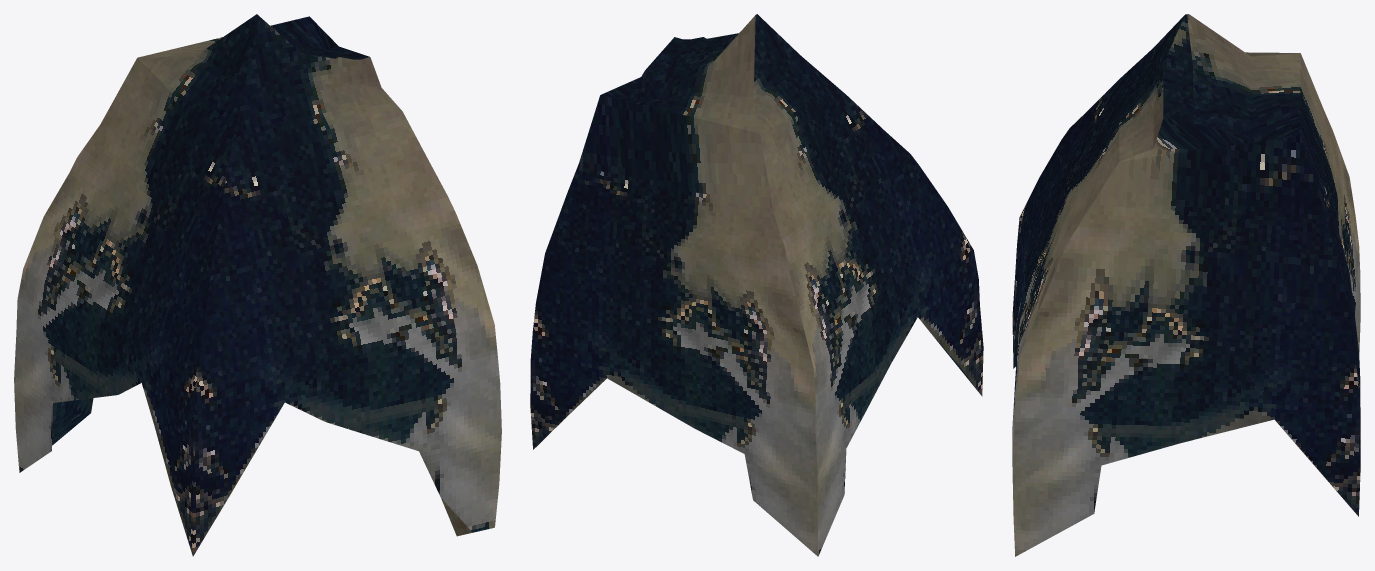
3 renders of one model, left to right at view 1: azimuth 30°, elevation 25°; view 2: azimuth 150°, elevation 25°; view 3: azimuth 270°, elevation 25°, orthographic. The views are drawn at different scales.
Parts seen in each view (by area): view 1: SPLICE_1; view 2: SPLICE_1; view 3: SPLICE_1.
Boxes of the visible parts, bbox=[...] form: SPLICE_1: bbox=[14, 14, 501, 556]; SPLICE_1: bbox=[530, 14, 983, 556]; SPLICE_1: bbox=[1012, 14, 1360, 556].
Size of the model in its own units: 1.16 by 1.74 by 1.16.
Materials: 1 (1 with a texture image).
